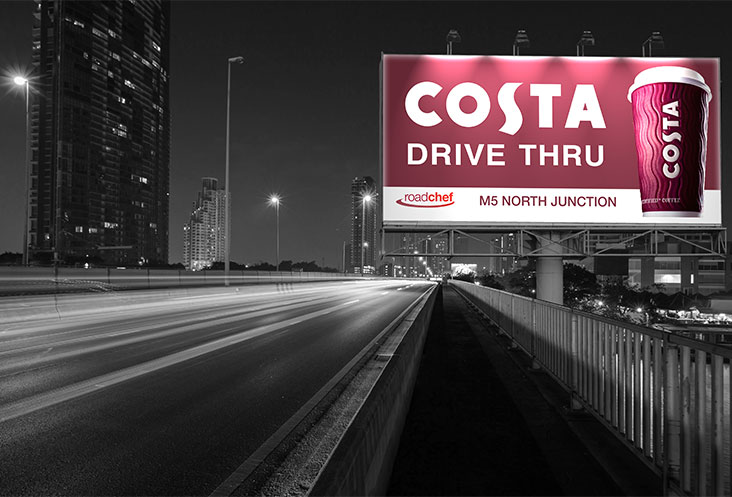text: (405, 81, 611, 132), (403, 141, 507, 167), (518, 143, 607, 170), (660, 100, 681, 181), (552, 194, 620, 209), (401, 191, 458, 207), (500, 193, 548, 210), (477, 194, 499, 208)
